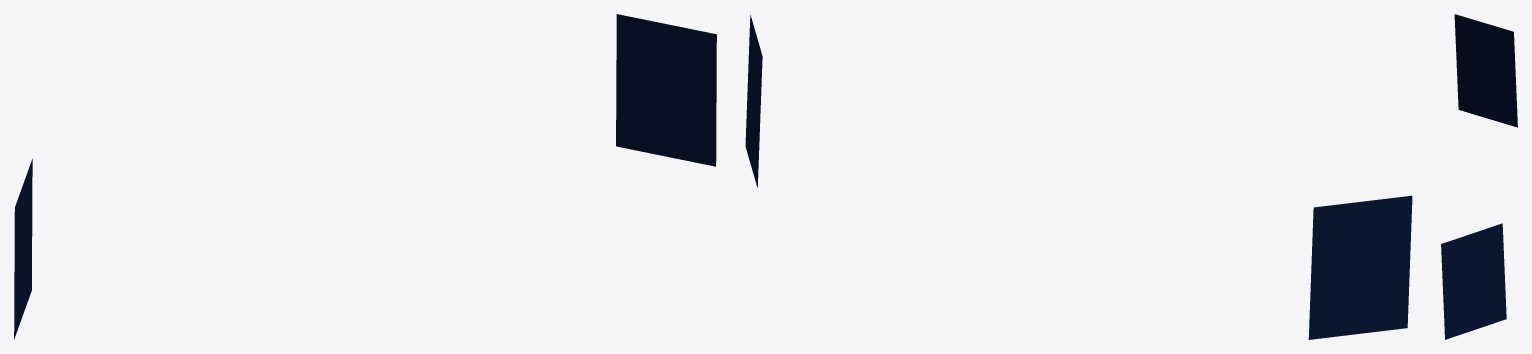
The picture shows the model from 3 angles, left to right: view 1: azimuth 30°, elevation 25°; view 2: azimuth 150°, elevation 25°; view 3: azimuth 270°, elevation 25°; orthographic projection. The views are drawn at different scales.
Visible parts, largest first — view 1: Cube.2004; view 2: Cube.2004; view 3: Cube.2004.
Part boxes in pixels (x1=…): Cube.2004: x1=14, y1=14, x2=716, y2=339; Cube.2004: x1=745, y1=15, x2=1412, y2=339; Cube.2004: x1=1441, y1=14, x2=1517, y2=339.
Bounding box in the file's own units: 1060 × 216 × 144.
